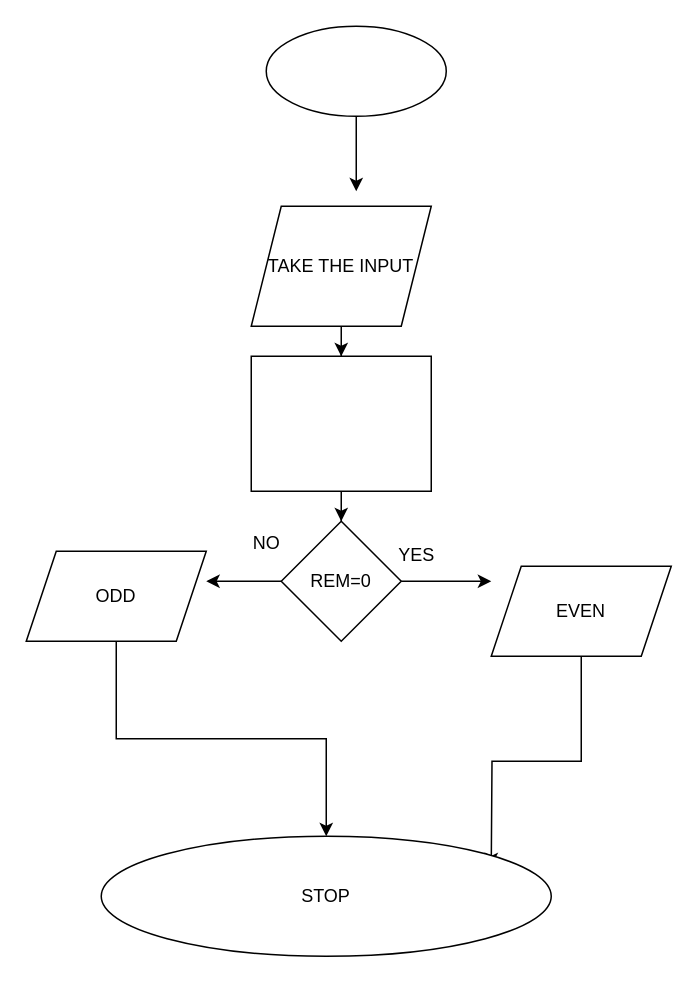
Some shapes in this 698 by 983 pixel diagram are drawn without their labels. Each missing label, with the box of its shape:
REM-NUMBER%2: (250, 355, 431, 491)
START: (265, 25, 446, 116)
